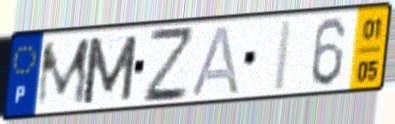6: (309, 13, 348, 91)
A: (188, 22, 242, 98)
I: (270, 17, 297, 95)
M: (33, 35, 93, 112), (80, 32, 141, 107)
Z: (142, 26, 195, 107)
